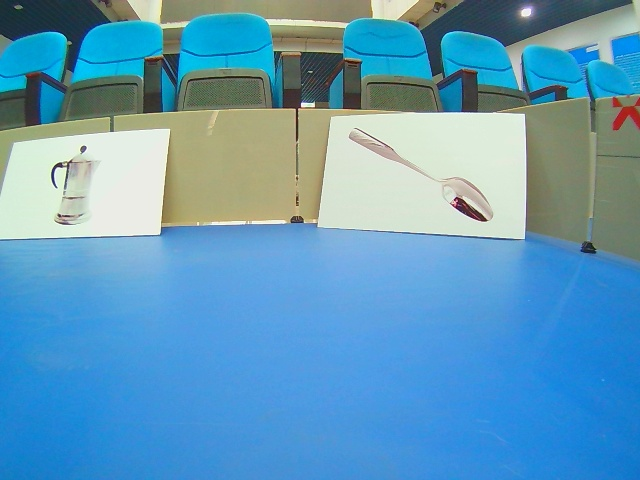dish: (316, 110, 528, 240), (1, 129, 171, 241)
